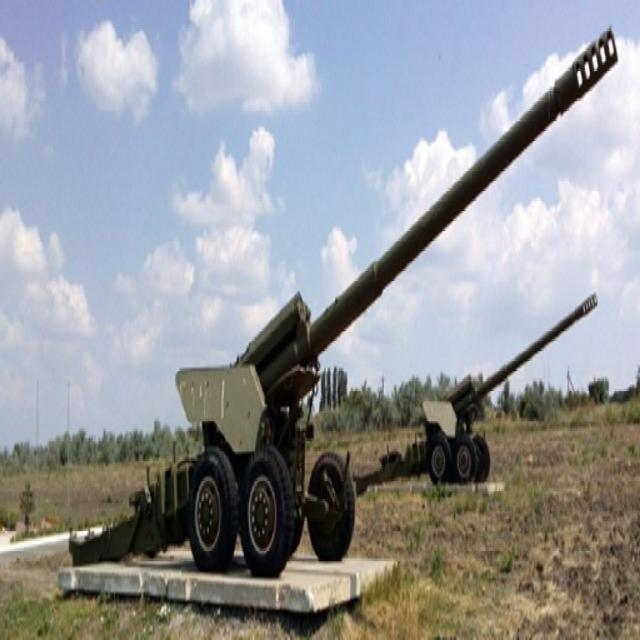ART: (67, 23, 618, 567), (354, 283, 598, 497)
